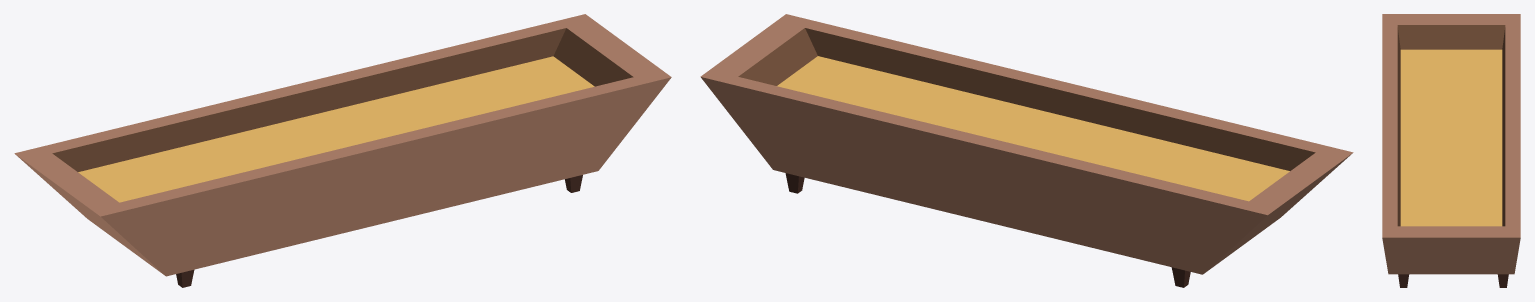
File: drinking_trough_wheat.fbx
3 views of the same model, side by side, from view 1: azimuth 30°, elevation 25°; view 2: azimuth 150°, elevation 25°; view 3: azimuth 270°, elevation 25° (orthographic). The views are drawn at different scales.
Visible parts, largest first — view 1: drinking_trough_wheat; view 2: drinking_trough_wheat; view 3: drinking_trough_wheat.
Boxes of the visible parts, x1,y1,x2,y2 form: drinking_trough_wheat: (14, 14, 671, 287); drinking_trough_wheat: (700, 14, 1353, 287); drinking_trough_wheat: (1382, 14, 1520, 287).
Size of the model in its own units: 905 by 155 by 237.
